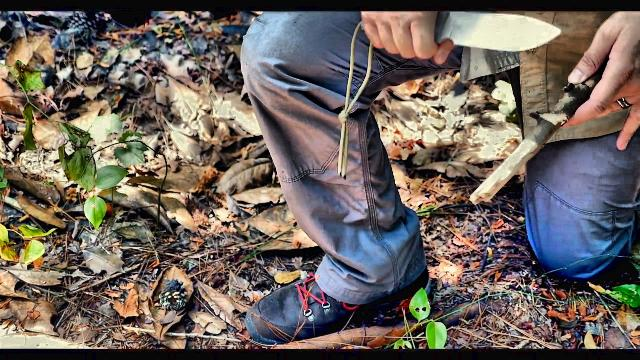knife: (405, 12, 565, 70)
